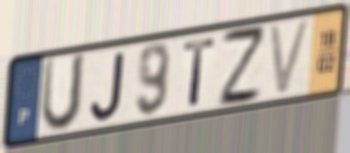9: (134, 41, 170, 120)
J: (89, 49, 127, 123)
T: (181, 35, 217, 109)
U: (38, 50, 89, 135)
V: (266, 16, 314, 100)
Z: (217, 25, 266, 110)
